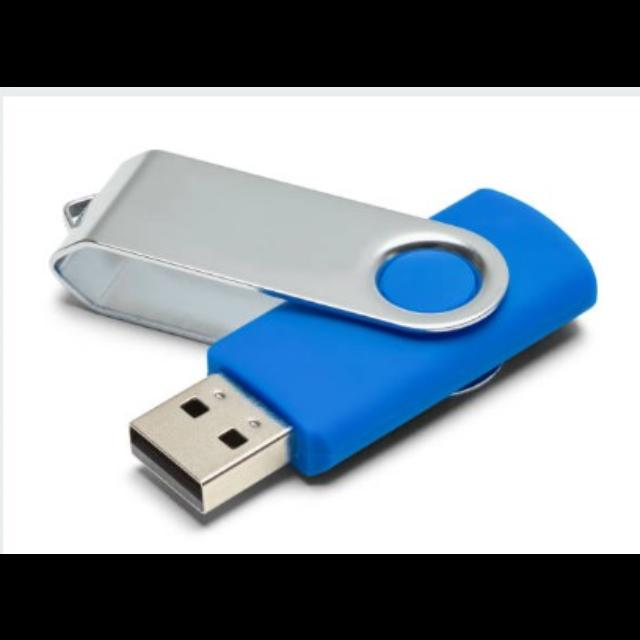USB-Flash-Drive: (49, 149, 599, 527)
